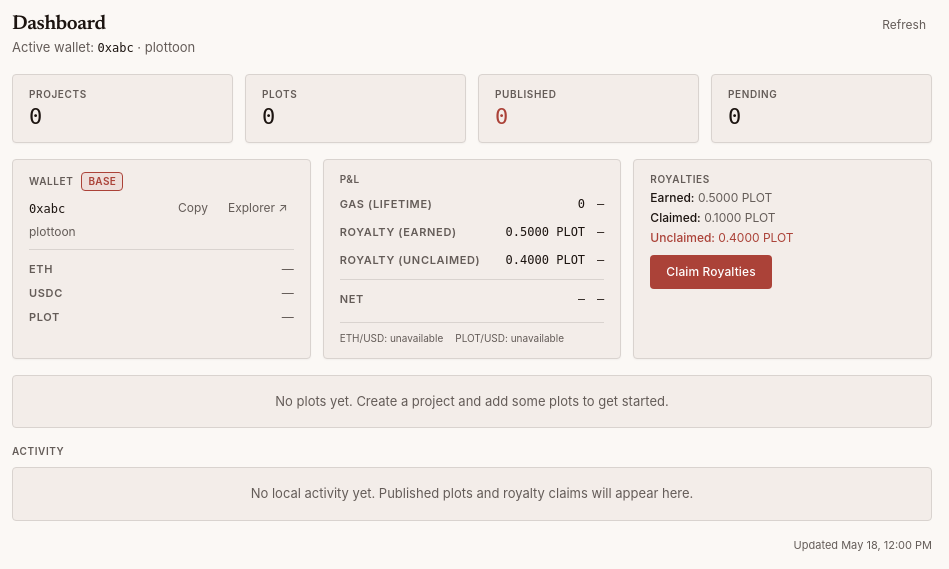
Test: Dashboard › cancels claim when cancel clicked
The width and height of the screenshot is (949, 569).
Click the button "Claim Royalties" at (711, 272), box left=650, top=255, right=772, bottom=289
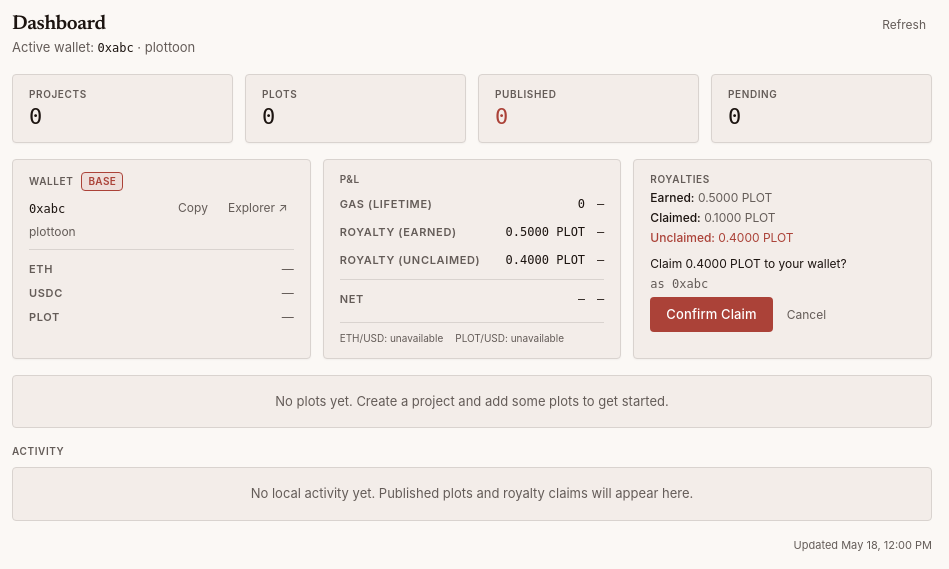
Now the button "Cancel" is shown
Click the button "Cancel" at (806, 315), box left=781, top=297, right=832, bottom=332
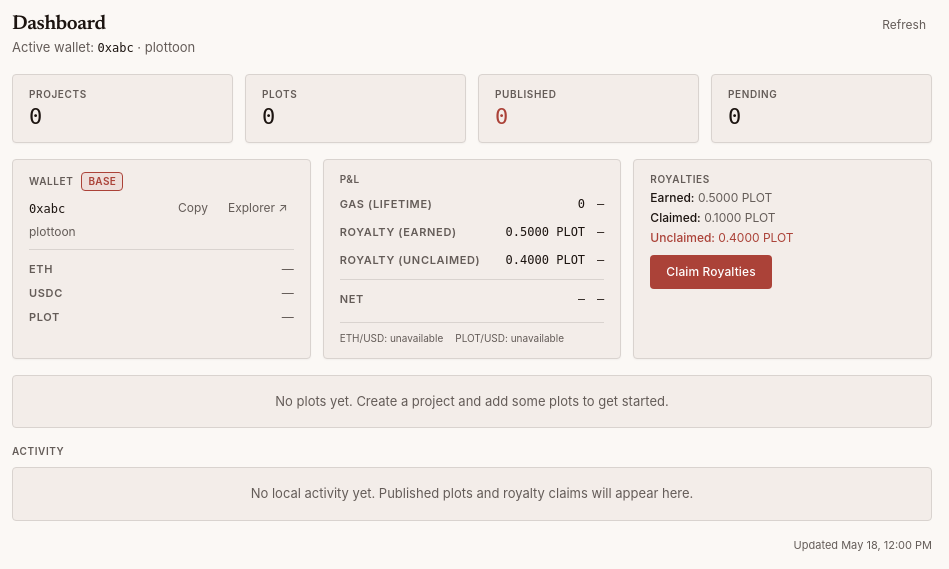
Now the button "Claim Royalties" is shown, box left=650, top=255, right=772, bottom=289
Now the button "Confirm Claim" is gone
